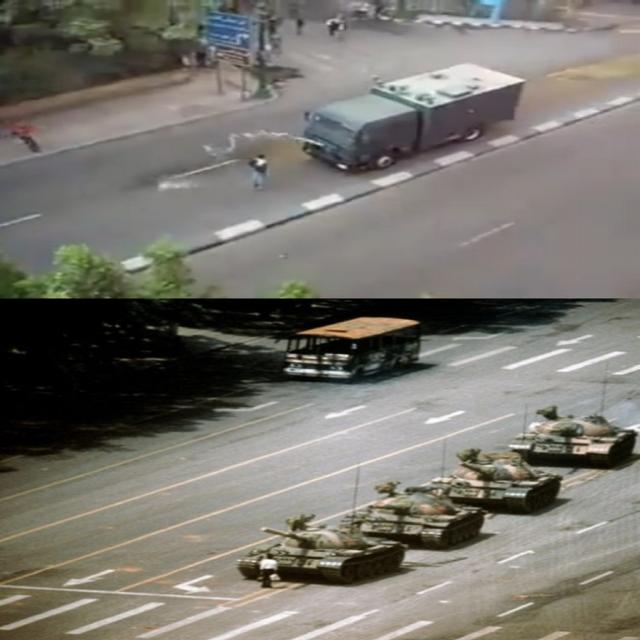tank: (234, 464, 407, 584), (332, 438, 487, 548), (415, 406, 563, 512), (504, 375, 637, 468)
